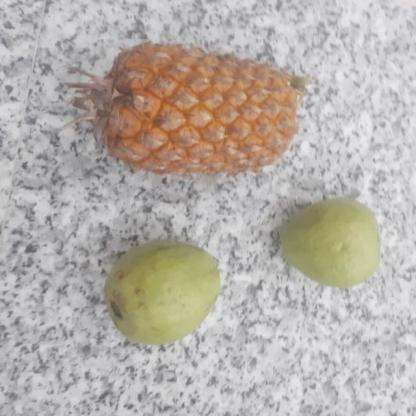guava: (102, 241, 219, 343), (269, 196, 382, 288)
pineapple: (67, 38, 313, 180)
